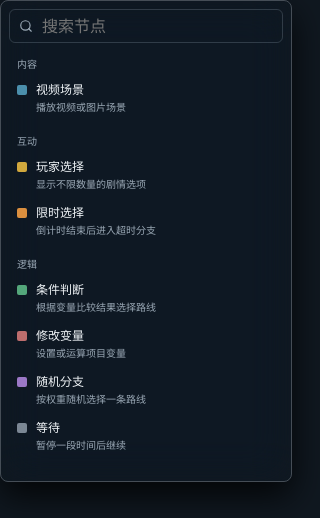
Test: NodeCreateMenu › matches search aliases and shows categories
Expected: the heading "互动" is shown, [17,135,37,147]
Expected: the heading "逻辑" is shown, [17,258,37,270]
In the search field labelled "搜索节点": (156, 26) [40,15,273,37], type "BGM"
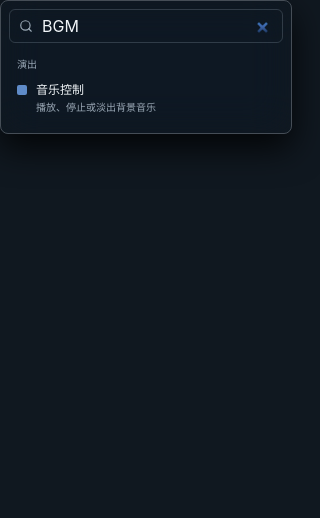
Expected: the button "音乐控制 播放、停止或淡出背景音乐" is shown, [9,74,283,120]
